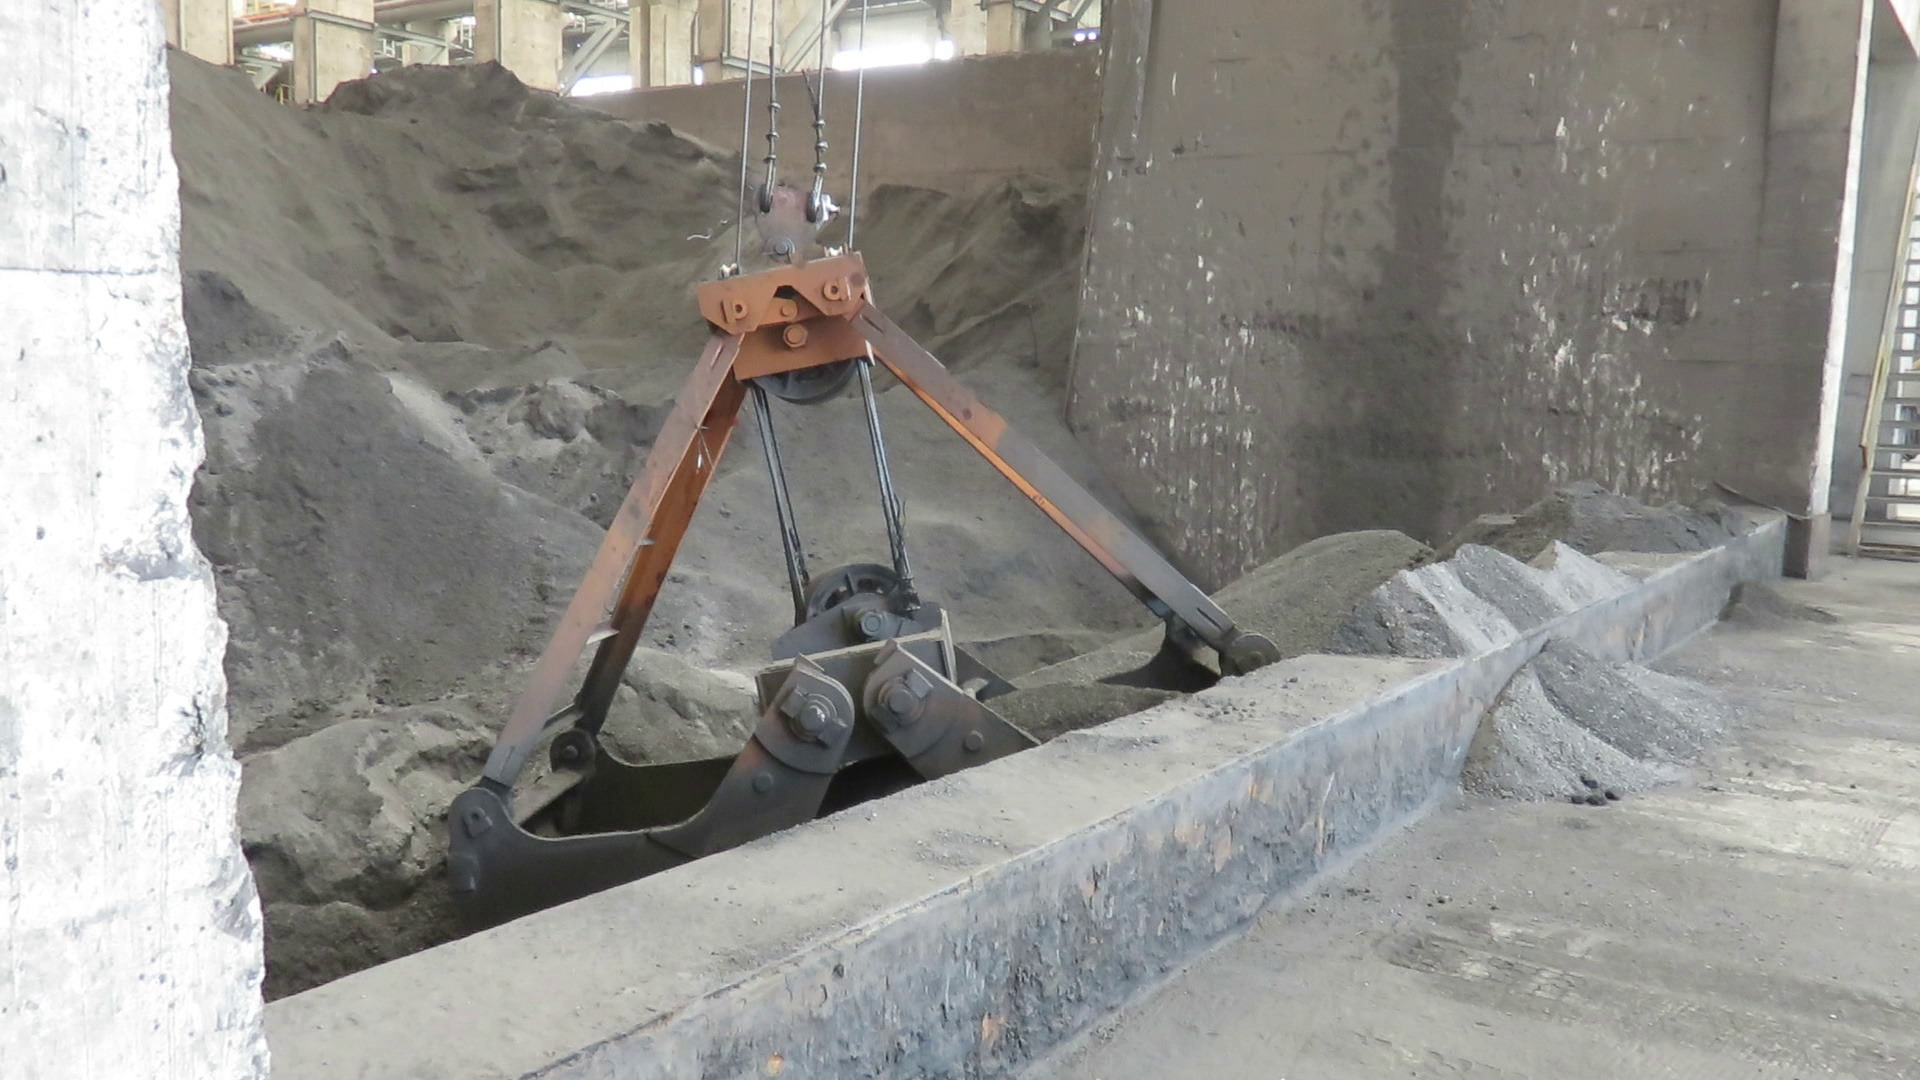grab: (438, 232, 1287, 936)
